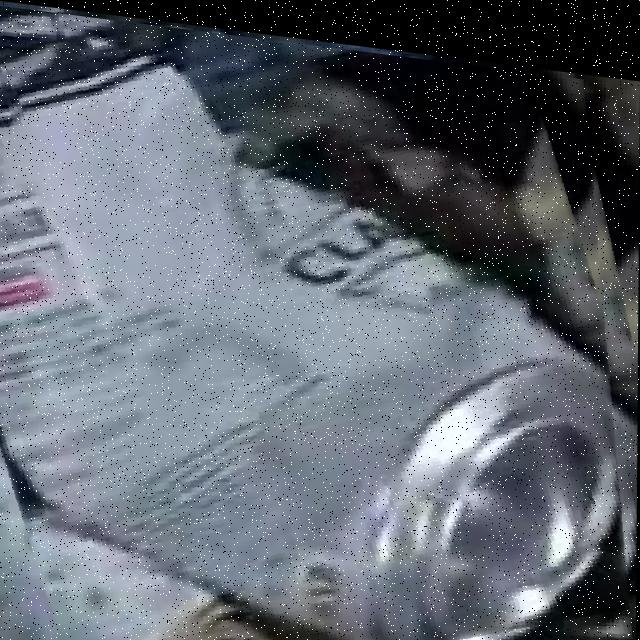litter: (0, 21, 632, 640)
